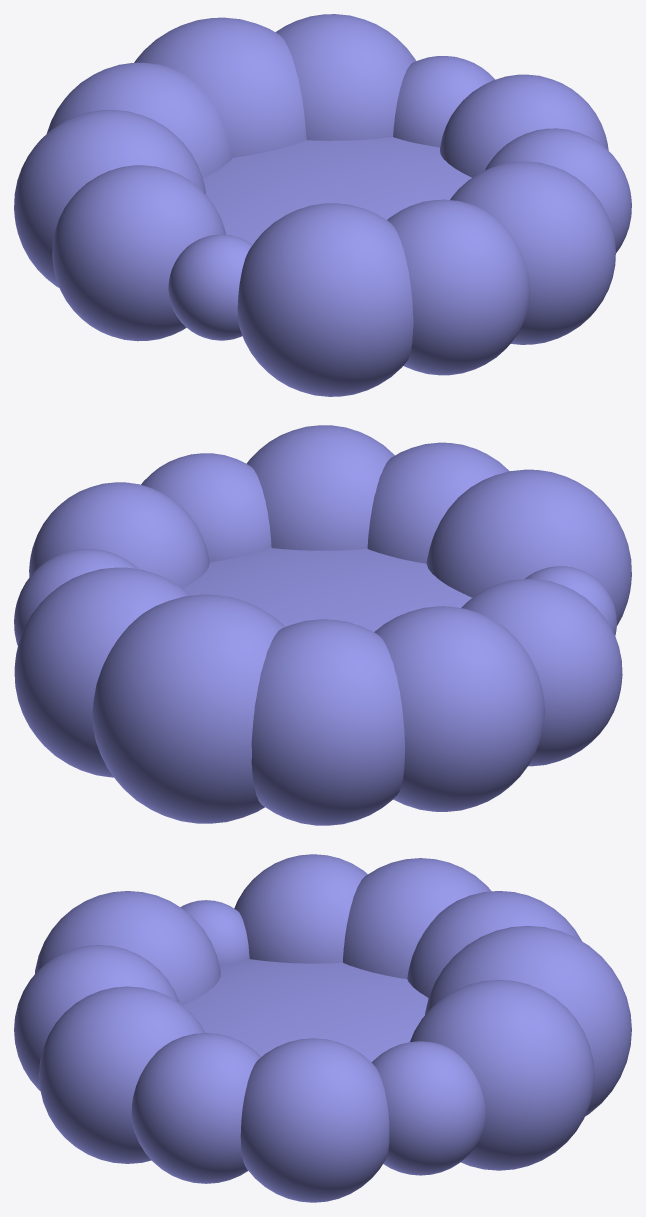
The model's file is Nest.fbx.
The picture shows the model from 3 angles, top to bottom: view 1: azimuth 30°, elevation 25°; view 2: azimuth 150°, elevation 25°; view 3: azimuth 270°, elevation 25°; orthographic projection. The views are drawn at different scales.
Parts seen in each view (by area): view 1: Nest; view 2: Nest; view 3: Nest.
Part boxes in pixels (<box>): Nest: <box>14,14,631,396</box>; Nest: <box>14,425,631,825</box>; Nest: <box>14,854,631,1202</box>.
Bounding box in the file's own units: 5.56 × 1.94 × 5.77.
